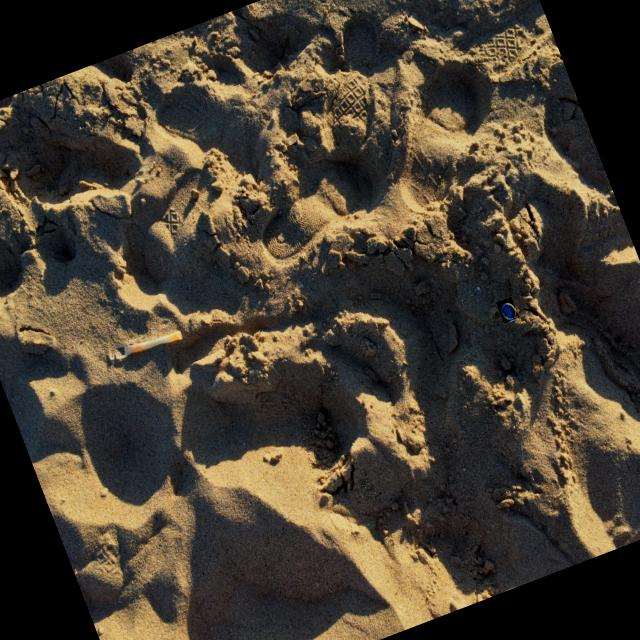Bottle cap: (498, 302, 517, 321)
Other plastic bottle: (110, 330, 183, 360)
